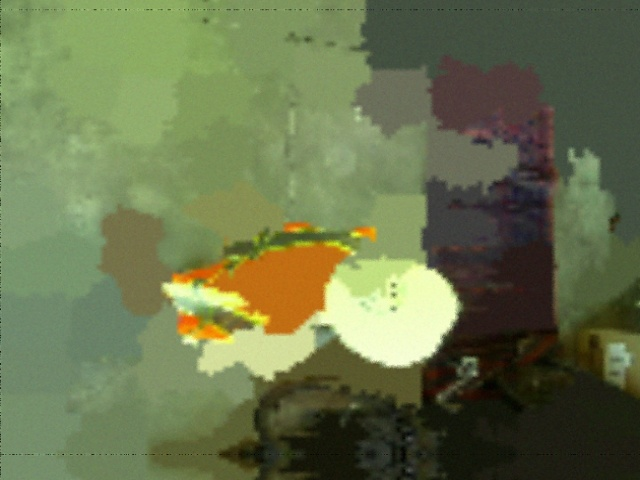eight: (357, 268, 404, 312)
